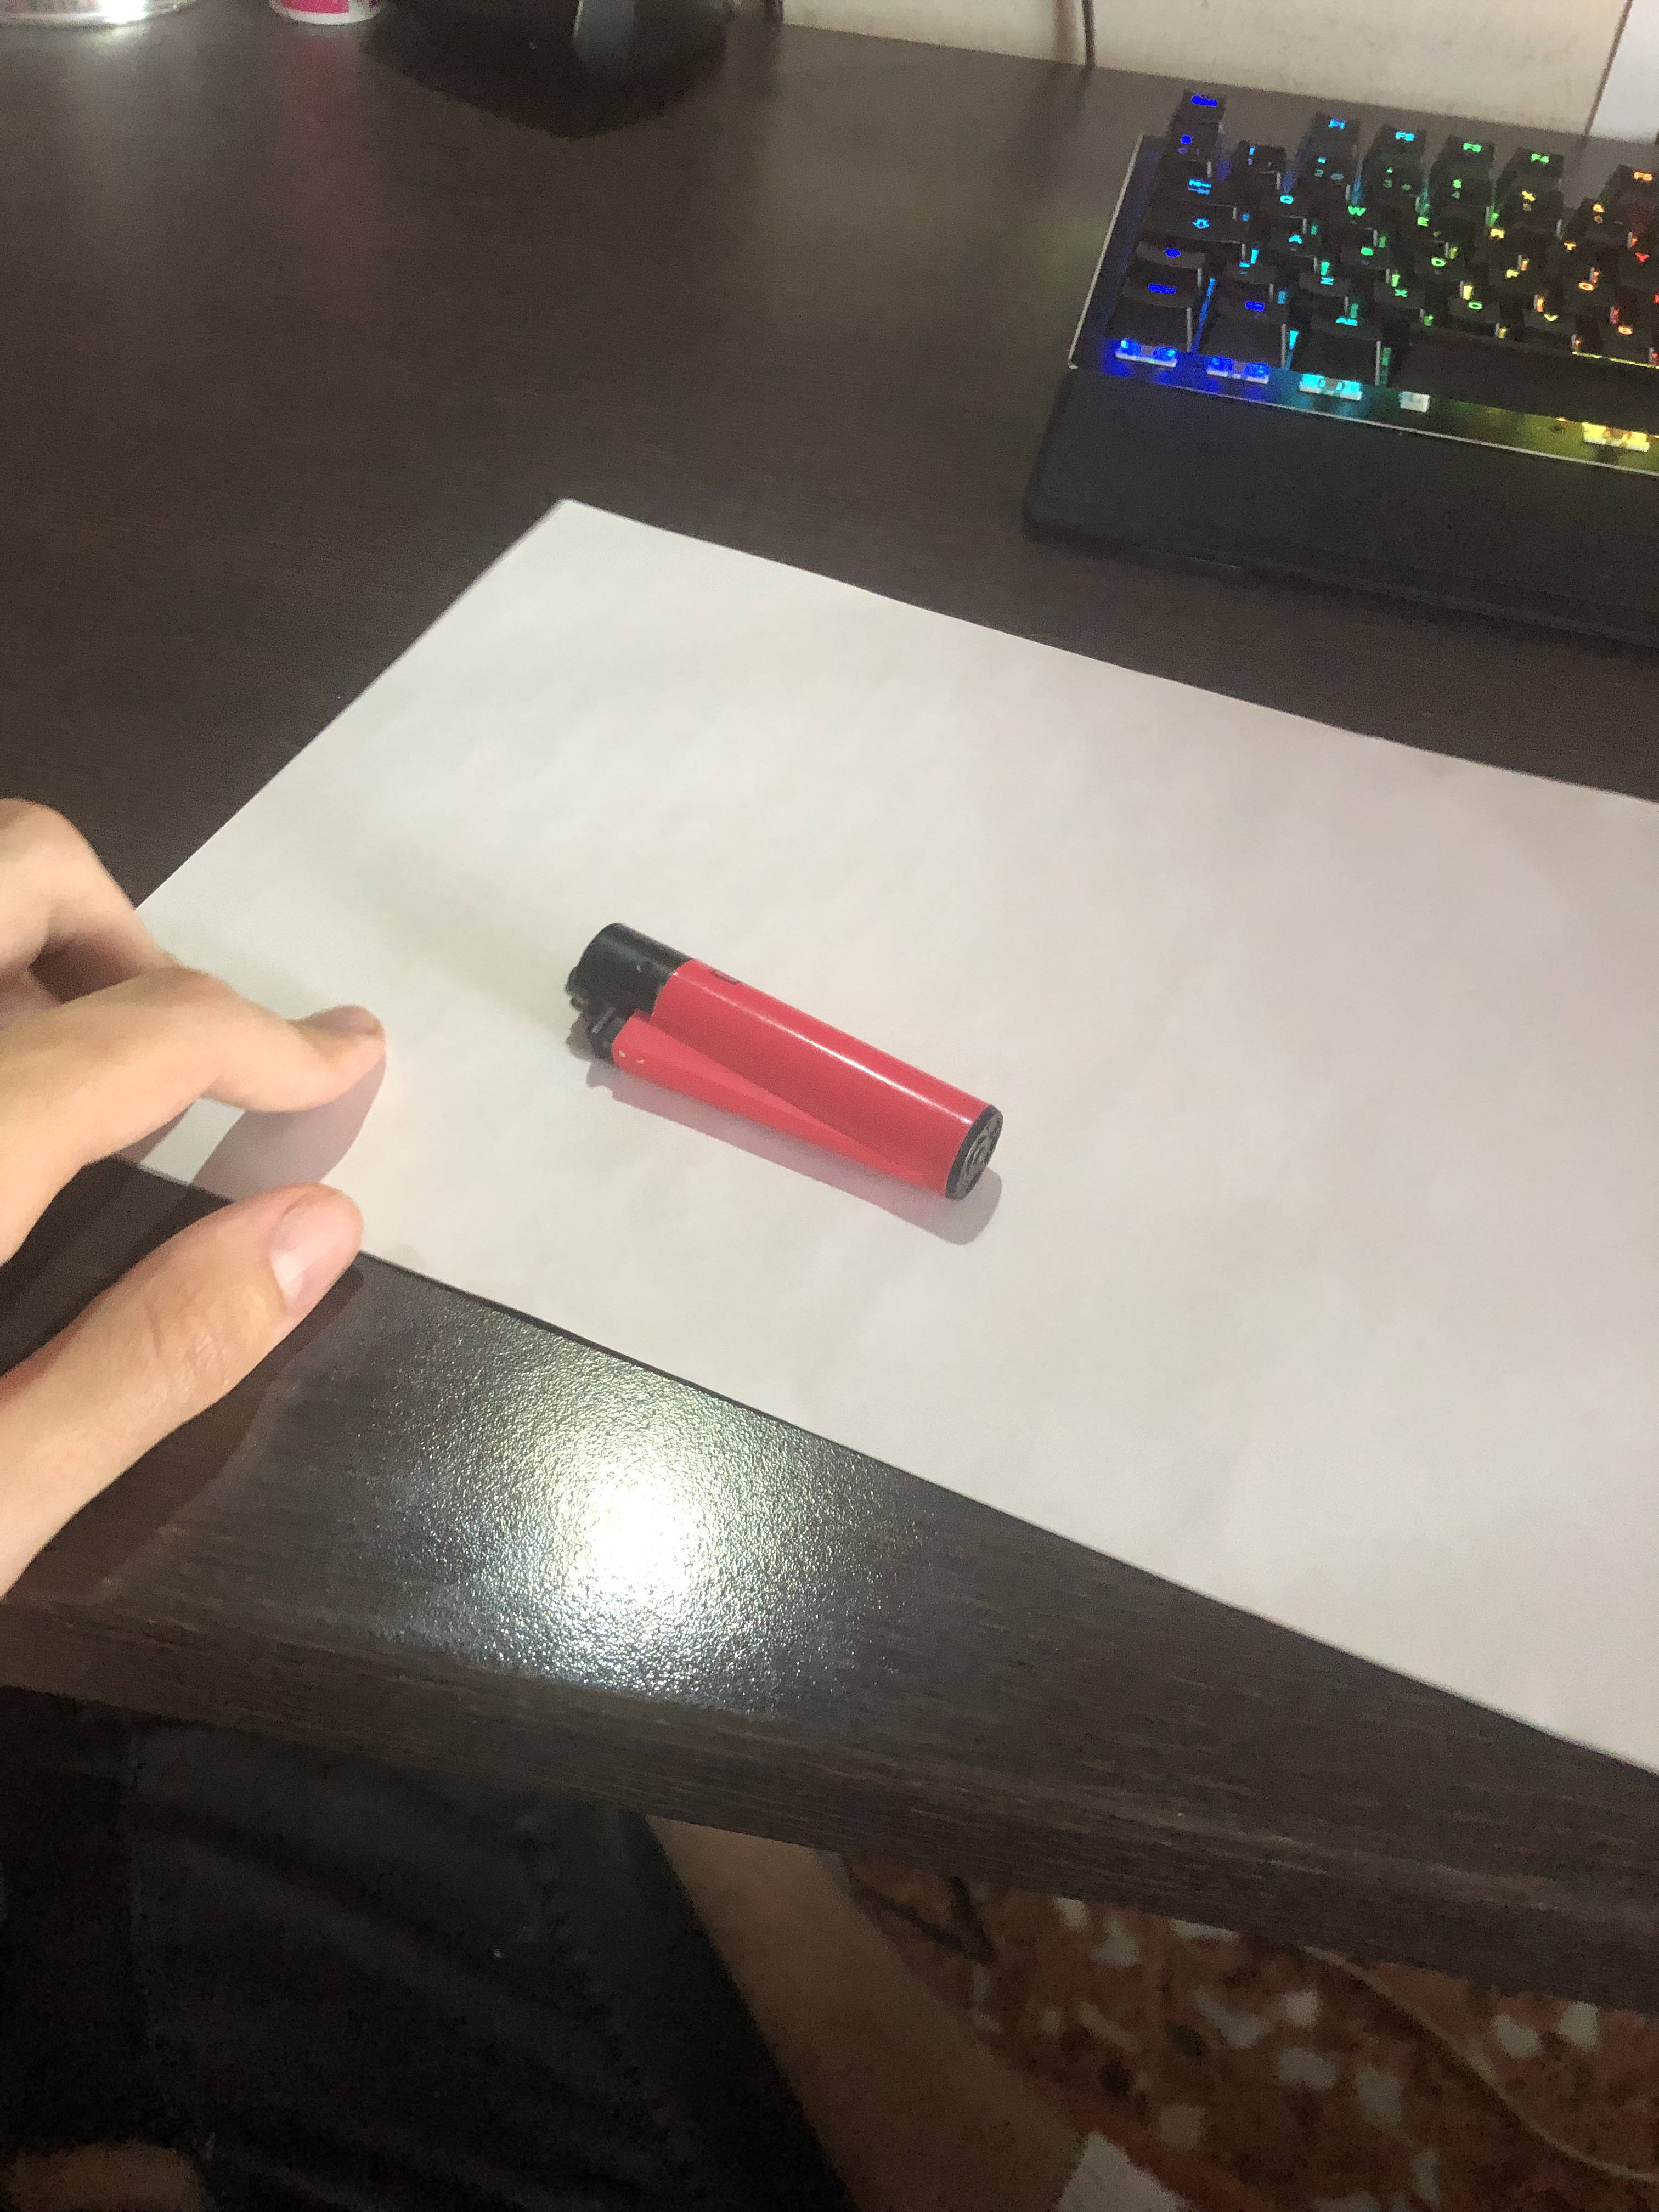Mechero: (538, 907, 1025, 1228)
